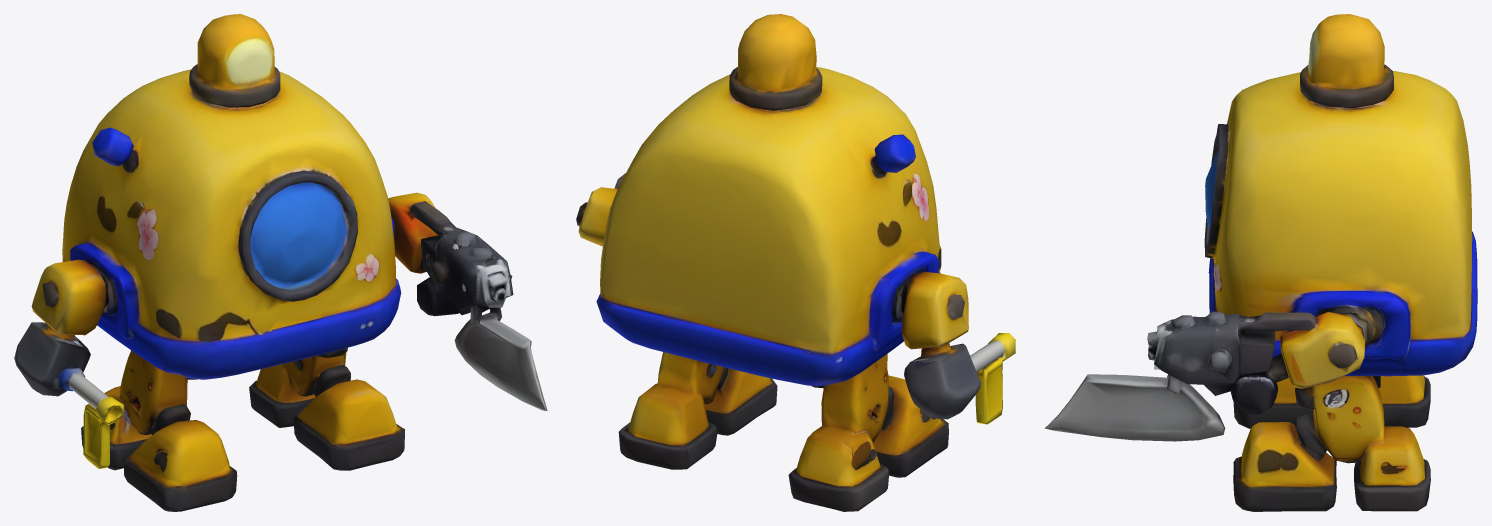
The model's file is big_yellow.glb.
The picture shows the model from 3 angles, left to right: view 1: azimuth 30°, elevation 25°; view 2: azimuth 150°, elevation 25°; view 3: azimuth 270°, elevation 25°; orthographic projection.
Parts seen in each view (by area): view 1: walker; view 2: walker; view 3: walker.
Part boxes in pixels (bbox=[...]): walker: bbox=[14, 14, 547, 511]; walker: bbox=[576, 14, 1015, 511]; walker: bbox=[1044, 14, 1477, 511].
Bounding box in the file's own units: 0.7028 × 0.72 × 0.6458.
1 material, 1 textured.
